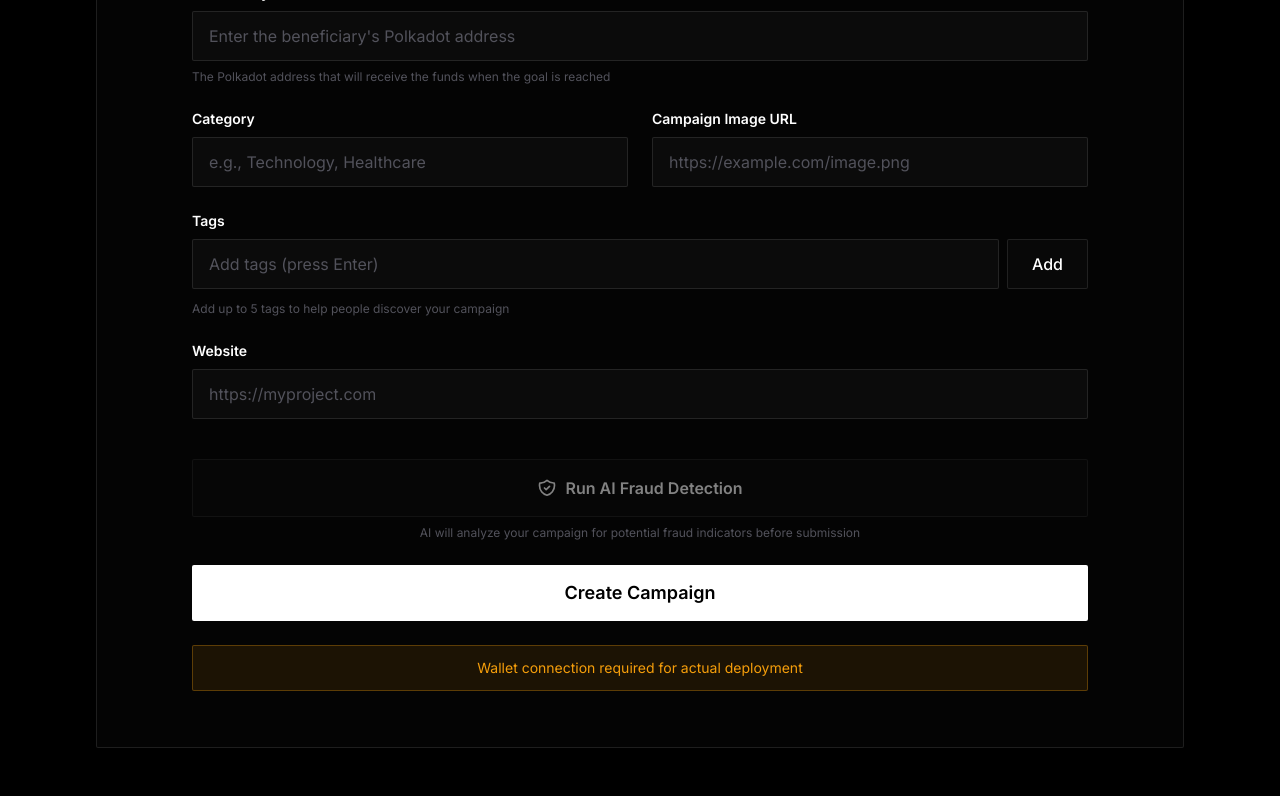
Test: Campaign Creation Integration Tests › Form Validation › should require deadline field to be filled
(page scrolled)
Note: Submit form without filling deadline
Click the button "Create Campaign": (640, 593) [192,565,1088,621]
(page scrolled)
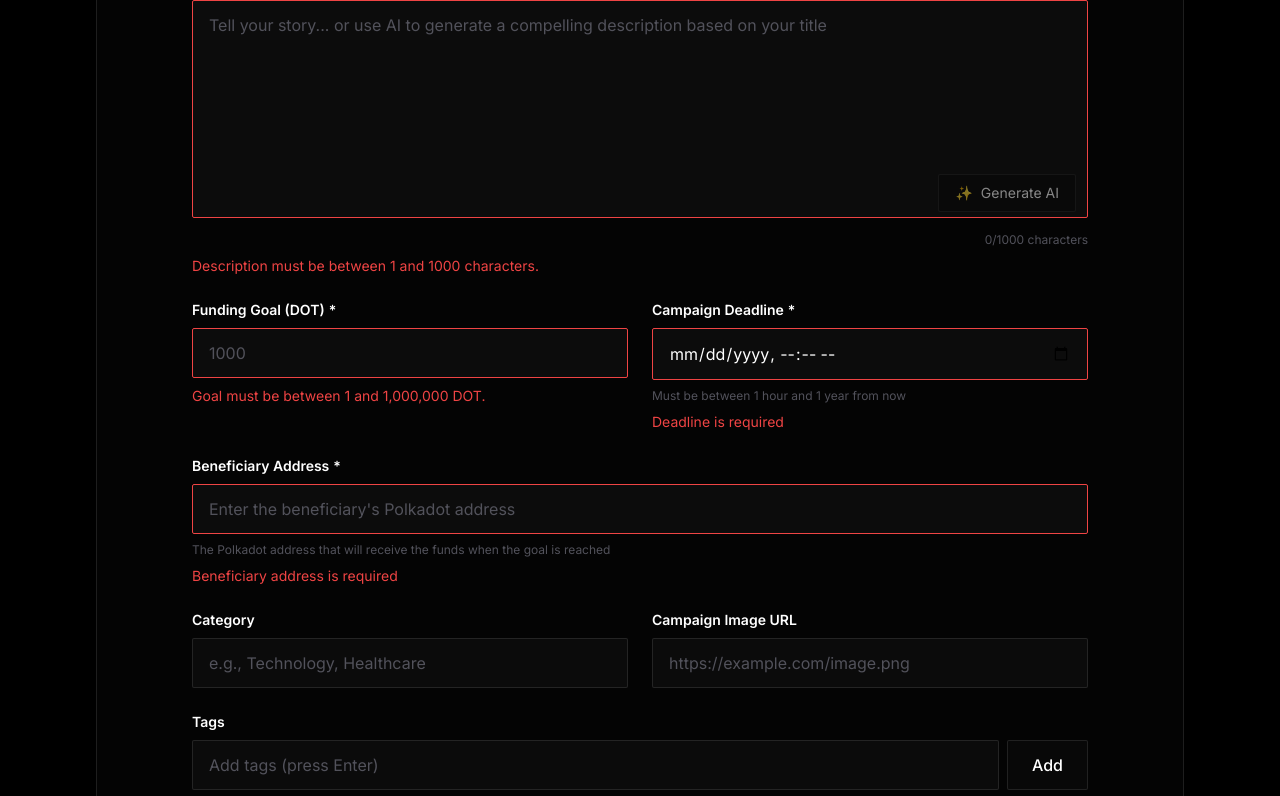
Expected: the text "Must be between 1 hour and 1 year from now" is shown, [652,388,906,403]
Now the text "Deadline is required" is shown, box [652,413,784,430]
